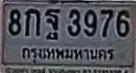3: (67, 8, 80, 35)
6: (116, 9, 129, 36)
7: (100, 9, 113, 36)
8: (8, 8, 20, 35)
9: (84, 9, 96, 35)
A01: (24, 8, 39, 35)
A16: (44, 8, 60, 35)
BKK: (20, 42, 116, 63)
